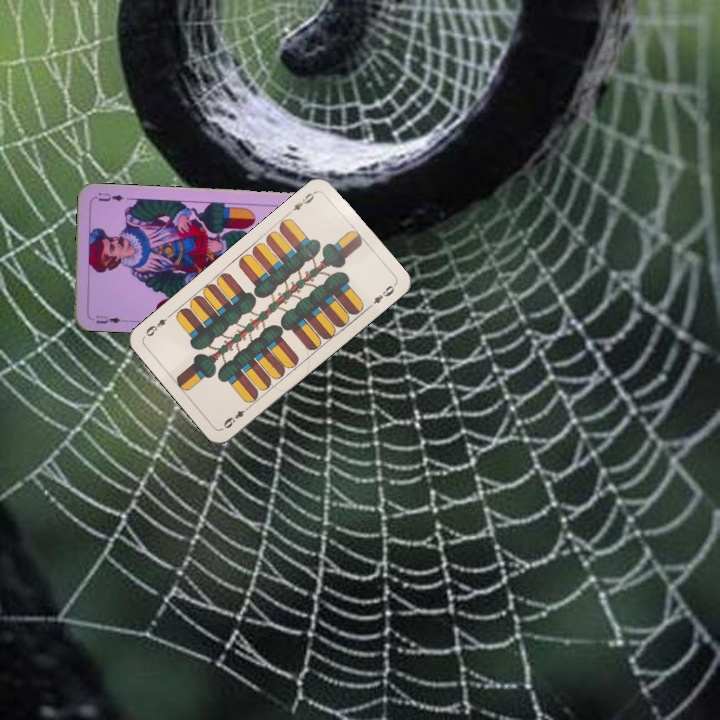E9: (284, 187, 319, 217), (219, 402, 253, 431)
EU: (92, 311, 123, 326)
